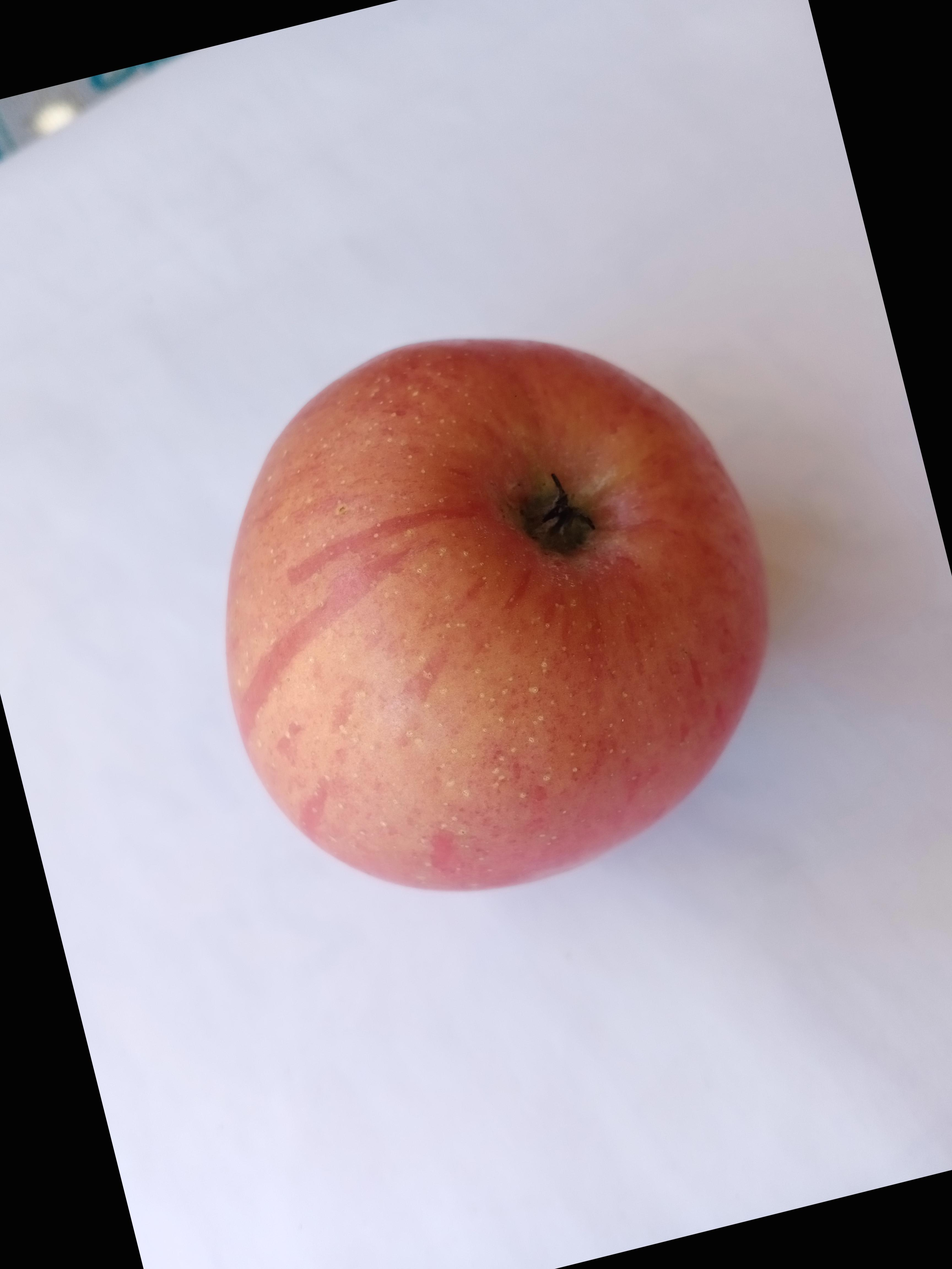Apple Ripe: (0, 427, 678, 1135)
